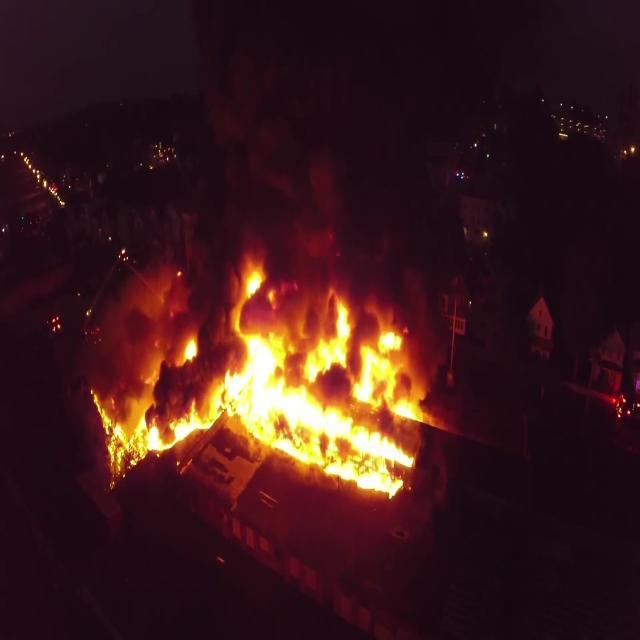Fire: (102, 263, 408, 516)
Smoke: (160, 7, 527, 284)
